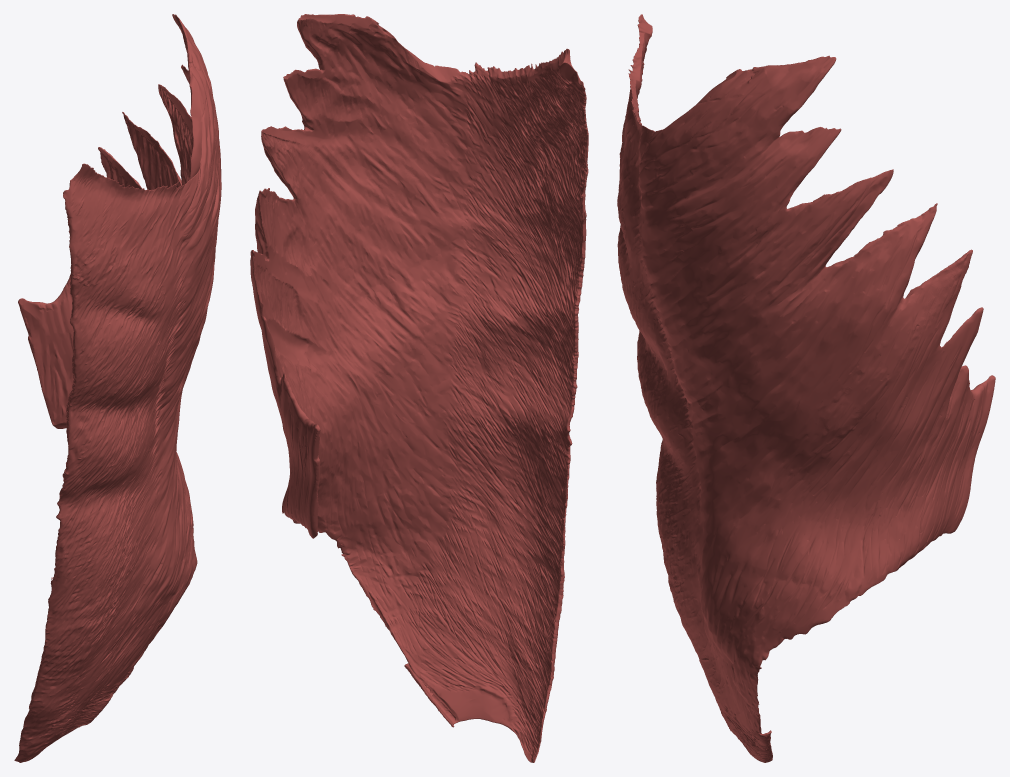
File: FMA13337.glb
3 renders of one model, left to right at view 1: azimuth 30°, elevation 25°; view 2: azimuth 150°, elevation 25°; view 3: azimuth 270°, elevation 25°, orthographic. The views are drawn at different scales.
Visible parts, largest first — view 1: FMA13337; view 2: FMA13337; view 3: FMA13337.
Part boxes in pixels (x1,y1,x2,y2): FMA13337: (14,14,221,762); FMA13337: (250,14,588,762); FMA13337: (617,14,995,762).
Size of the model in its own units: 0.1363 by 0.4185 by 0.18.
